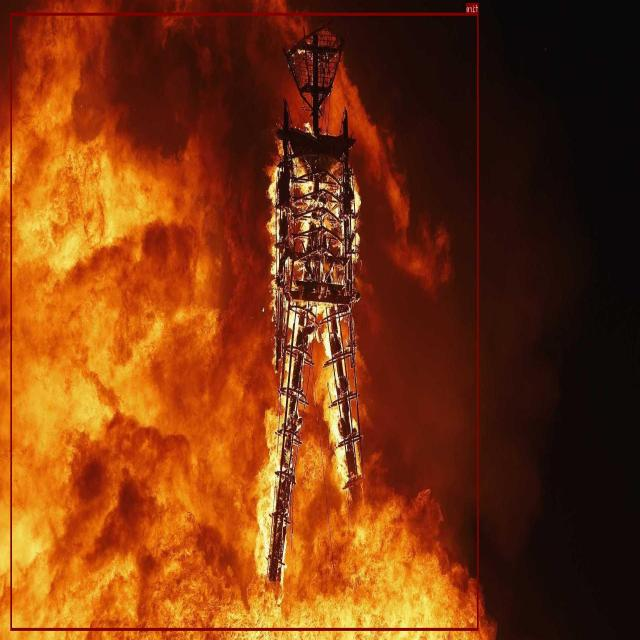fire: (11, 13, 479, 630)
